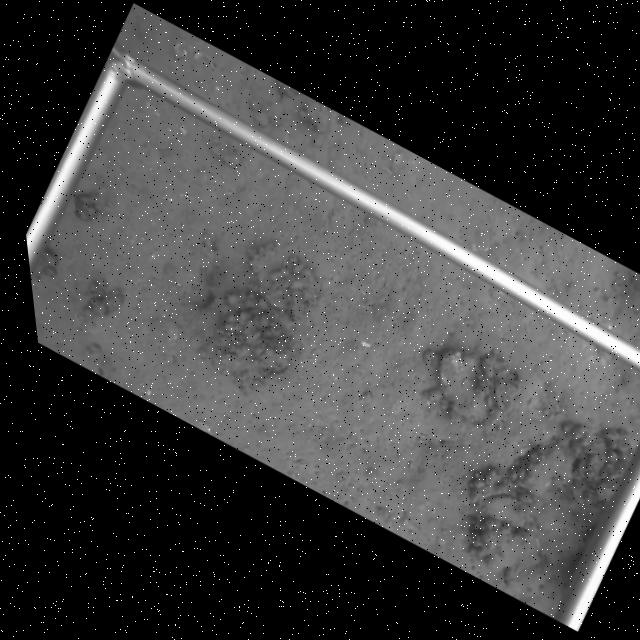Oyster-Closed: (437, 345, 485, 425), (489, 370, 508, 415), (483, 394, 493, 411)
Oyster-Indeterminate: (250, 245, 322, 316), (479, 491, 539, 533)
